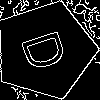D: (20, 25, 77, 74)
